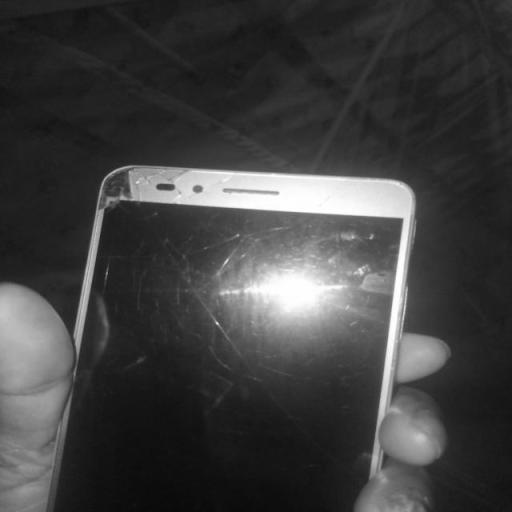phone: (43, 173, 420, 511)
